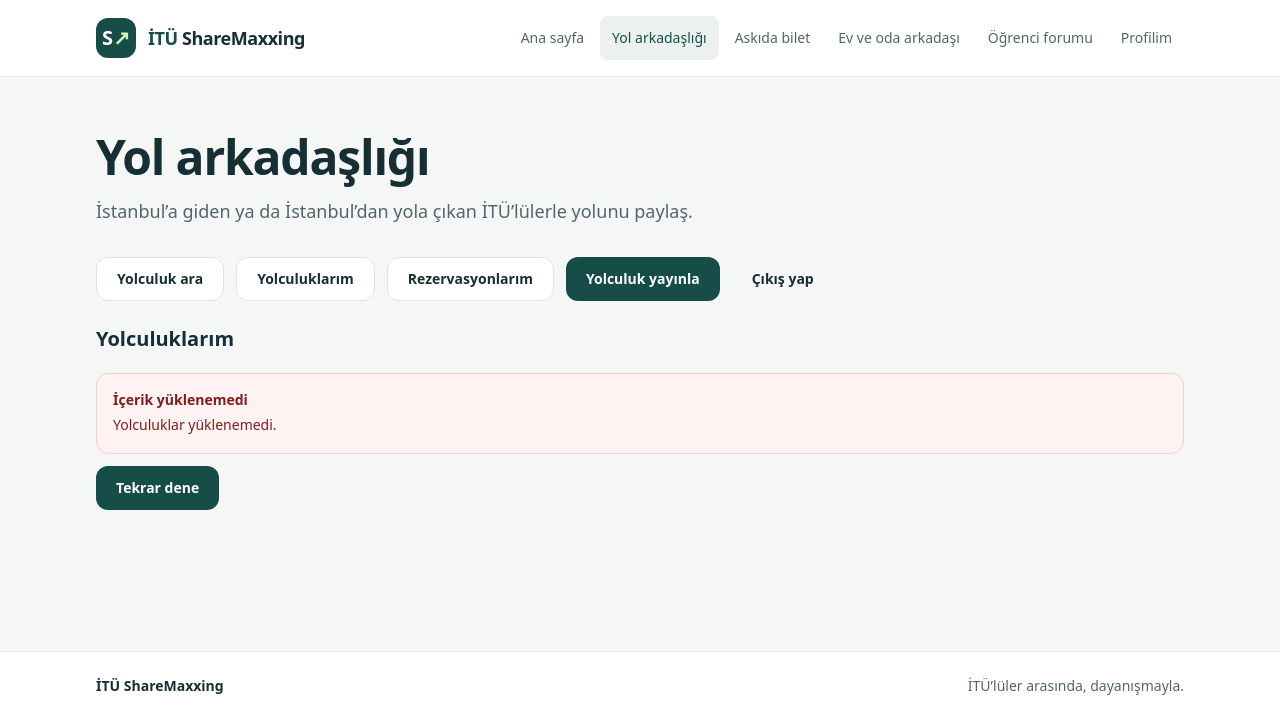
Test case: shows an API error and retries loading my trips
Expected: the text "Yolculuklar yüklenemedi." is shown, [113, 415, 277, 434]
Click the button "Tekrar dene" at point(158, 488), box [96, 466, 219, 510]
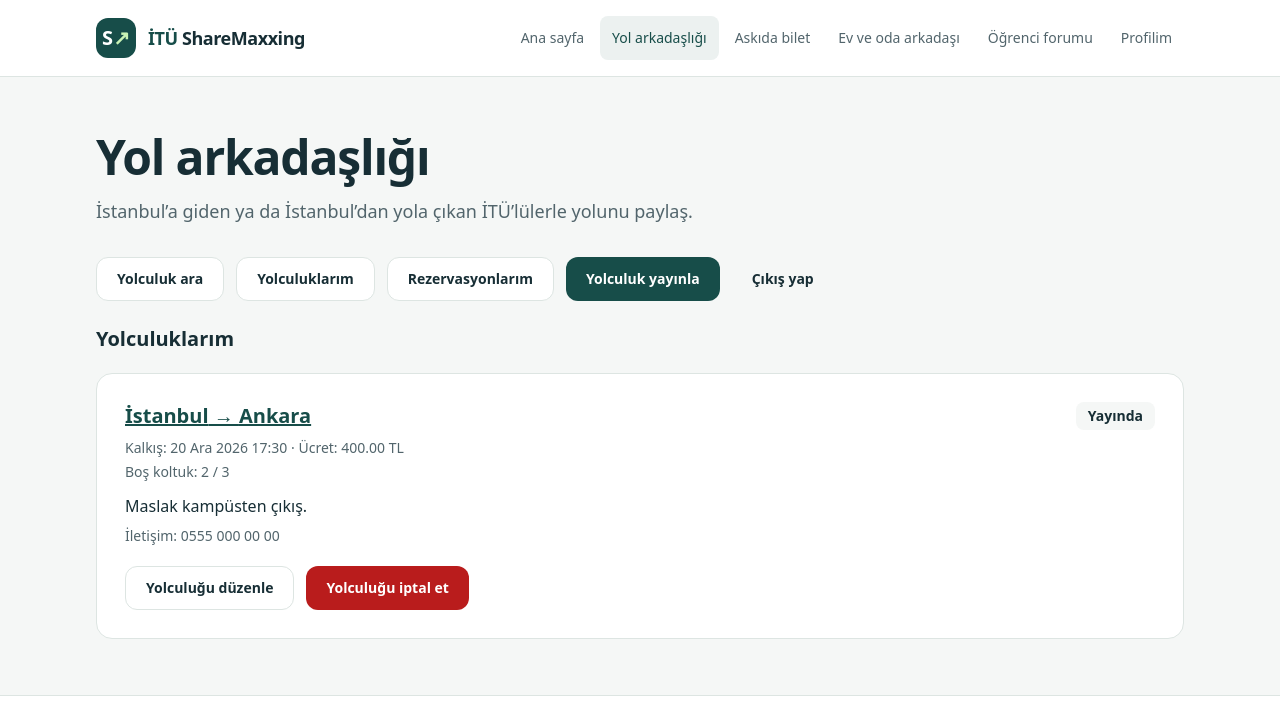
Expected: the heading "İstanbul → Ankara" is shown, [125, 402, 311, 430]
